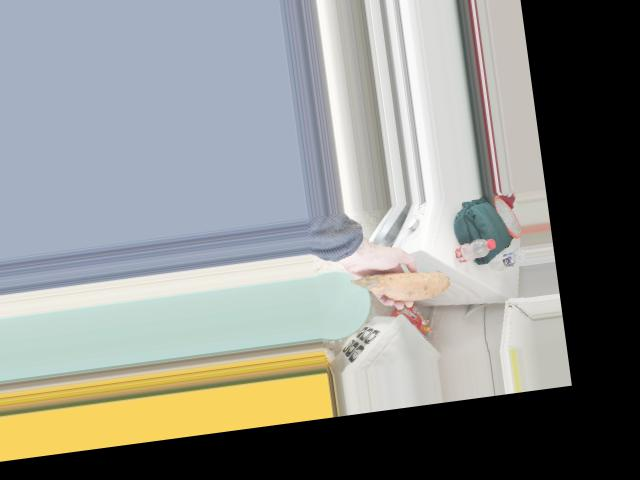sweet_potato: (341, 271, 448, 313)
